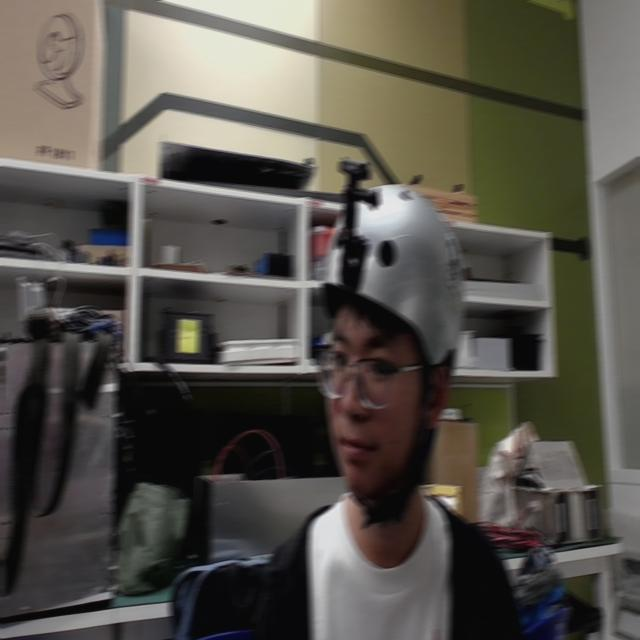With Helmet: (280, 109, 521, 626)
